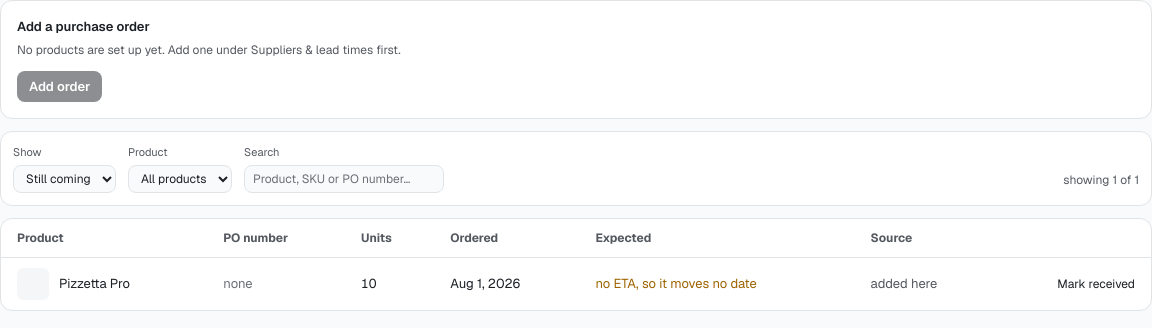
Test: PurchaseOrdersClient filtering › says nothing matched rather than showing an empty table
Type "zzzz" into the search field named "Search purchase orders". click: (344, 178)
box: [244,164,444,192]
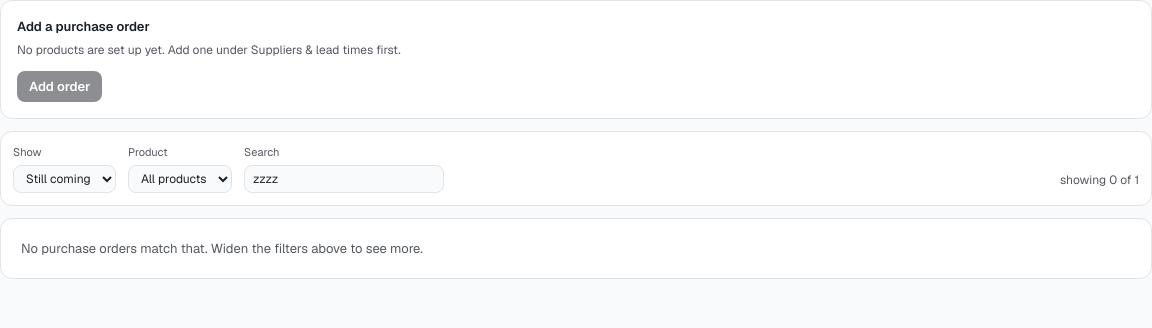
Check: the text "No purchase orders match" is shown, box [21,240,423,256]
